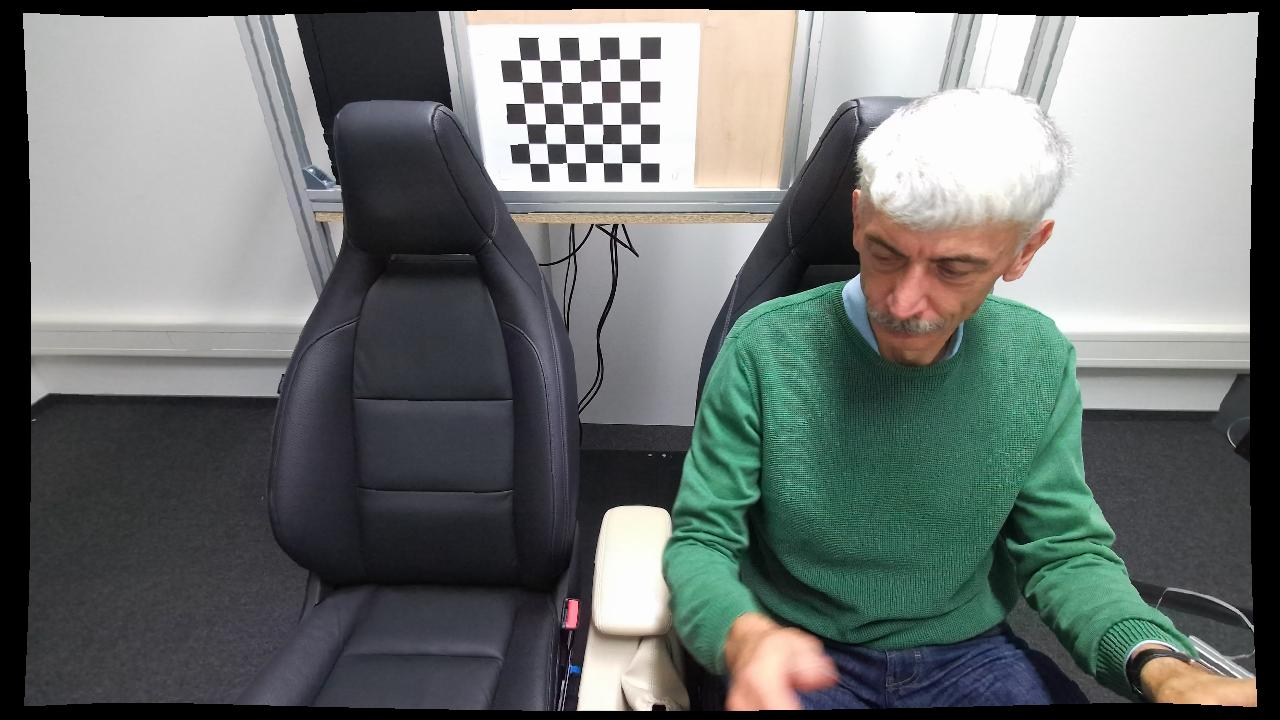Distracted: (645, 82, 1128, 720)
